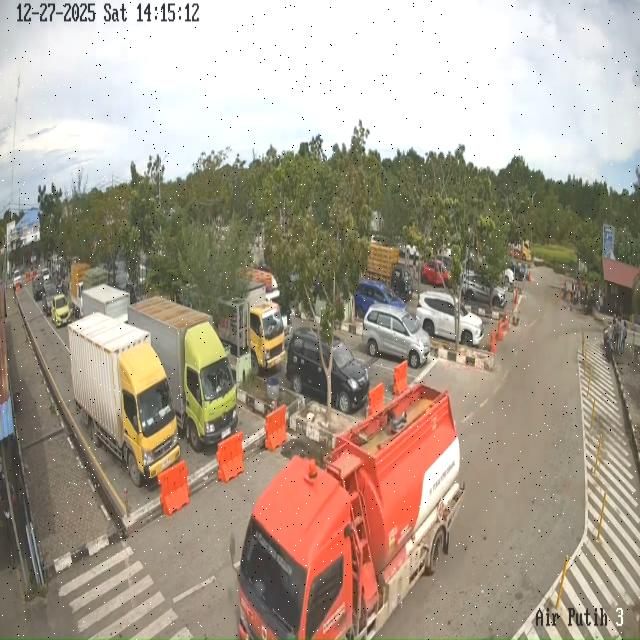Golongan IVA: (286, 327, 370, 414), (362, 304, 430, 369), (416, 291, 484, 347), (354, 279, 406, 320), (462, 272, 506, 308), (51, 294, 71, 328), (42, 280, 57, 316), (32, 274, 44, 301)
Golongan VB: (230, 384, 464, 640), (68, 313, 180, 486), (128, 297, 238, 451), (215, 281, 286, 375)
